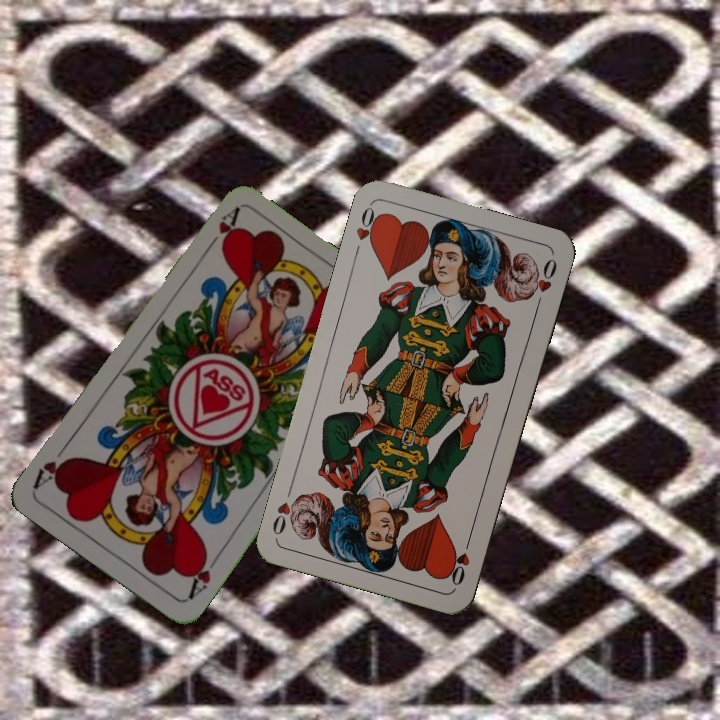HA: (184, 548, 223, 603), (200, 205, 242, 256)
HO: (350, 202, 385, 259), (447, 531, 474, 589)
